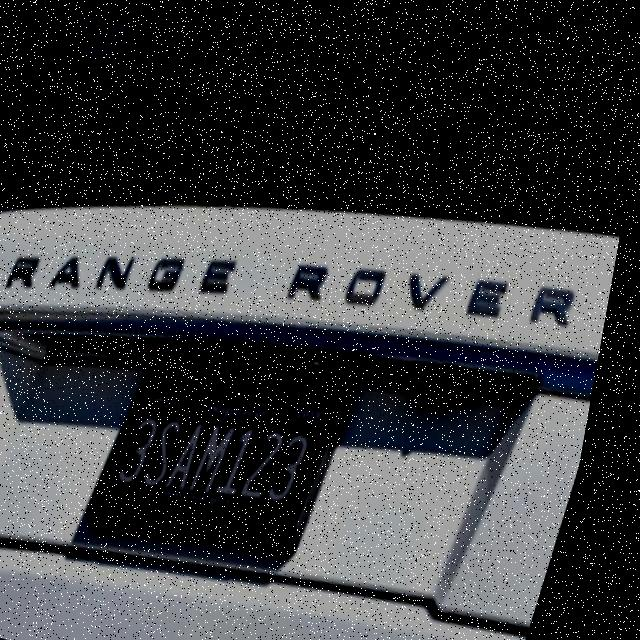license_plate: (114, 352, 336, 540)
